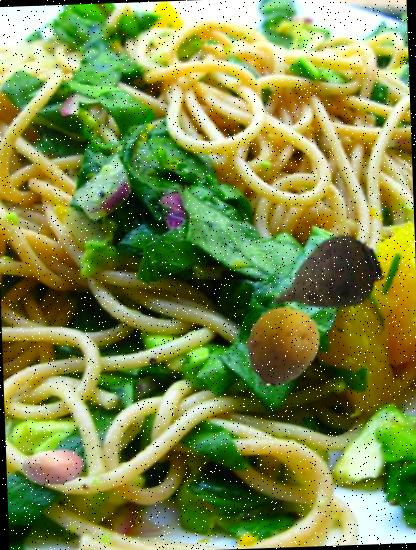Beetroot: (267, 220, 386, 339)
Hazelnut: (21, 434, 88, 500)
Potato: (239, 304, 323, 388)
